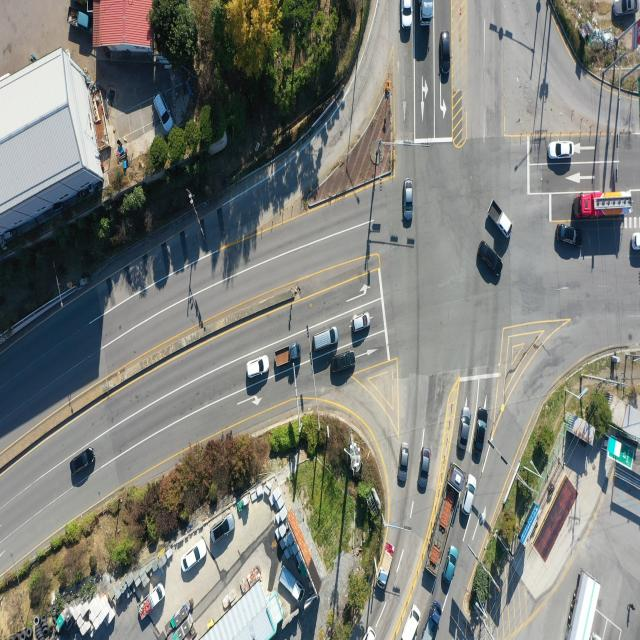car: (478, 244, 504, 278), (155, 92, 175, 133), (181, 542, 206, 574), (474, 408, 488, 462), (70, 446, 95, 476), (311, 326, 338, 352), (461, 475, 477, 517), (211, 518, 235, 546), (401, 605, 420, 640), (458, 407, 471, 453), (332, 351, 357, 374), (420, 449, 432, 496), (247, 355, 270, 378), (548, 140, 574, 160), (445, 546, 459, 582), (441, 31, 452, 76), (557, 224, 579, 246), (405, 182, 416, 225), (398, 444, 409, 486), (614, 0, 639, 18), (350, 313, 370, 333), (401, 0, 413, 29), (632, 233, 640, 253)
medium_truck: (426, 466, 466, 580), (566, 568, 600, 638), (576, 194, 635, 220), (420, 0, 435, 24)
small_truck: (140, 582, 167, 622), (278, 572, 307, 605), (375, 545, 396, 590), (489, 197, 512, 237), (424, 599, 444, 640), (274, 343, 302, 369), (66, 6, 93, 32)
